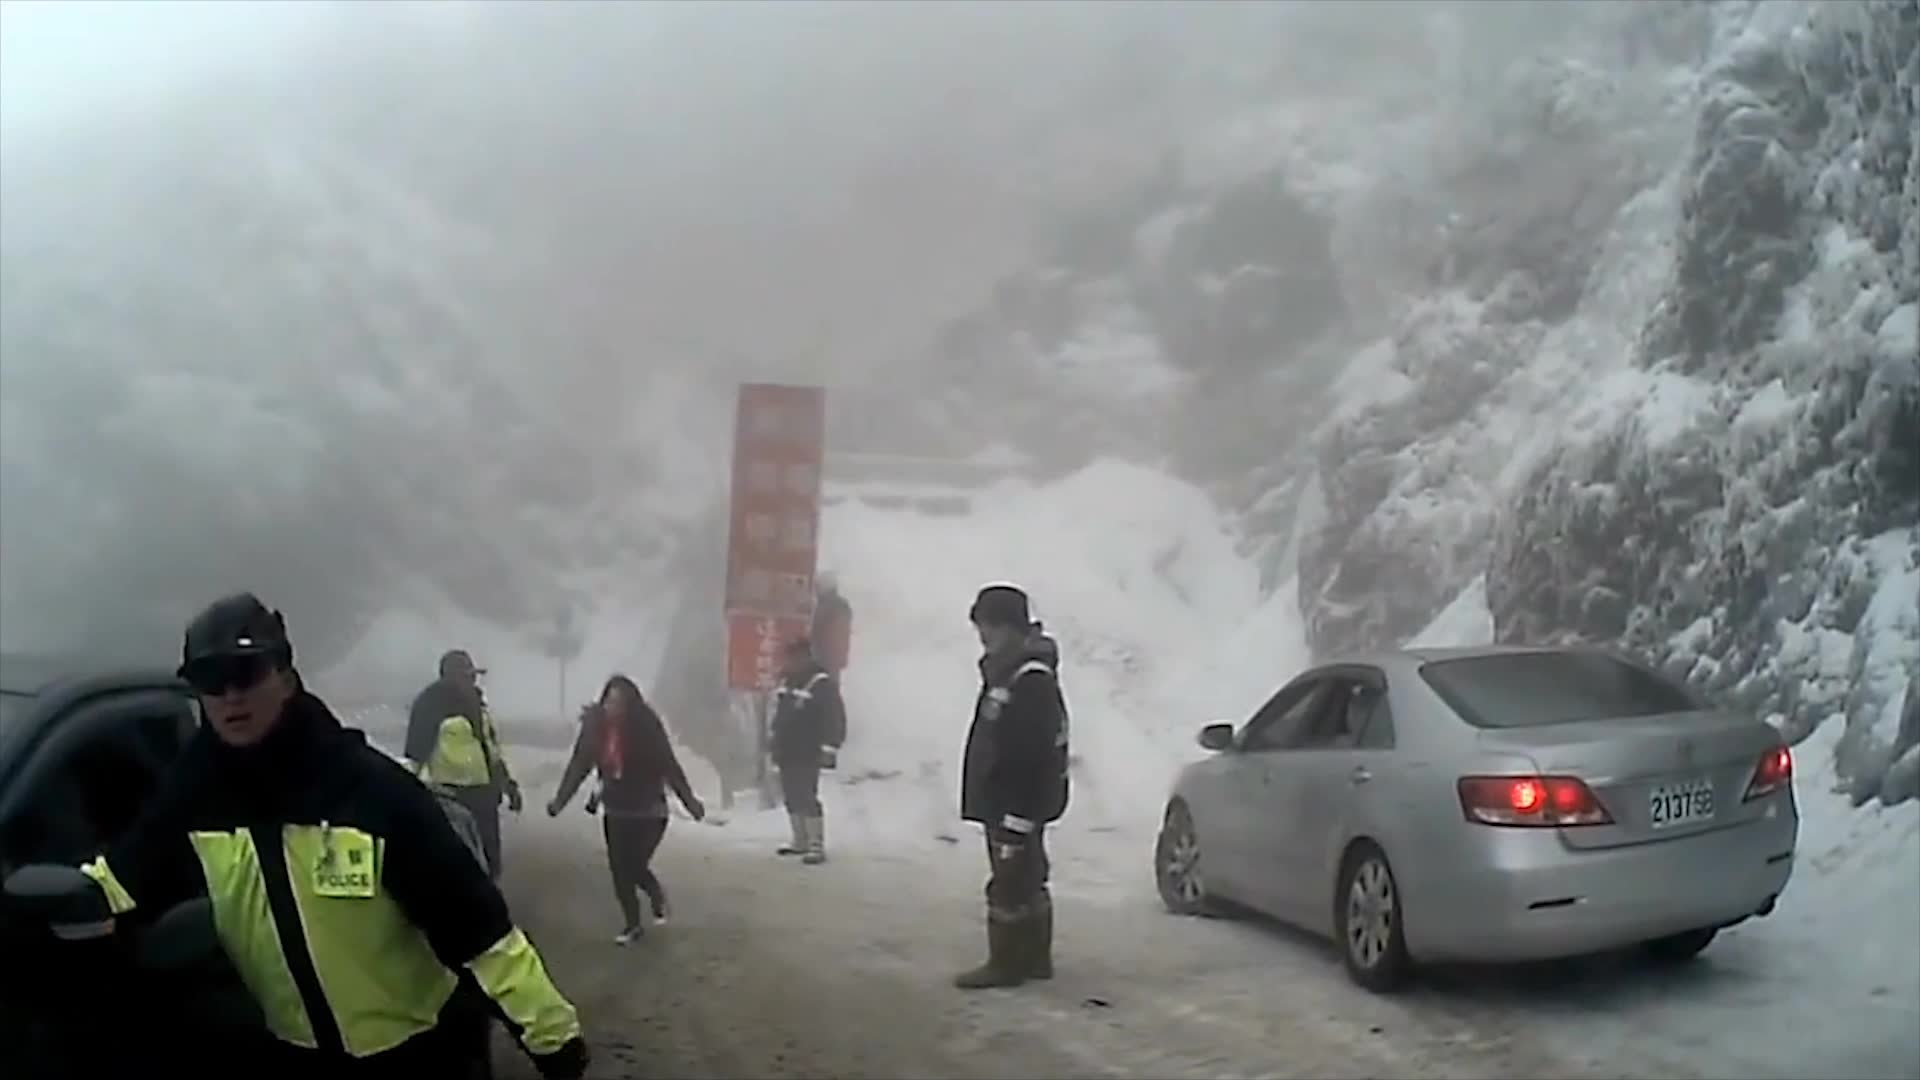pedestrian: (40, 588, 570, 1080), (941, 585, 1072, 989), (545, 676, 701, 947), (397, 645, 526, 930), (764, 639, 848, 864), (803, 565, 864, 755)
vehicle: (1153, 642, 1800, 991), (0, 654, 493, 1079)
